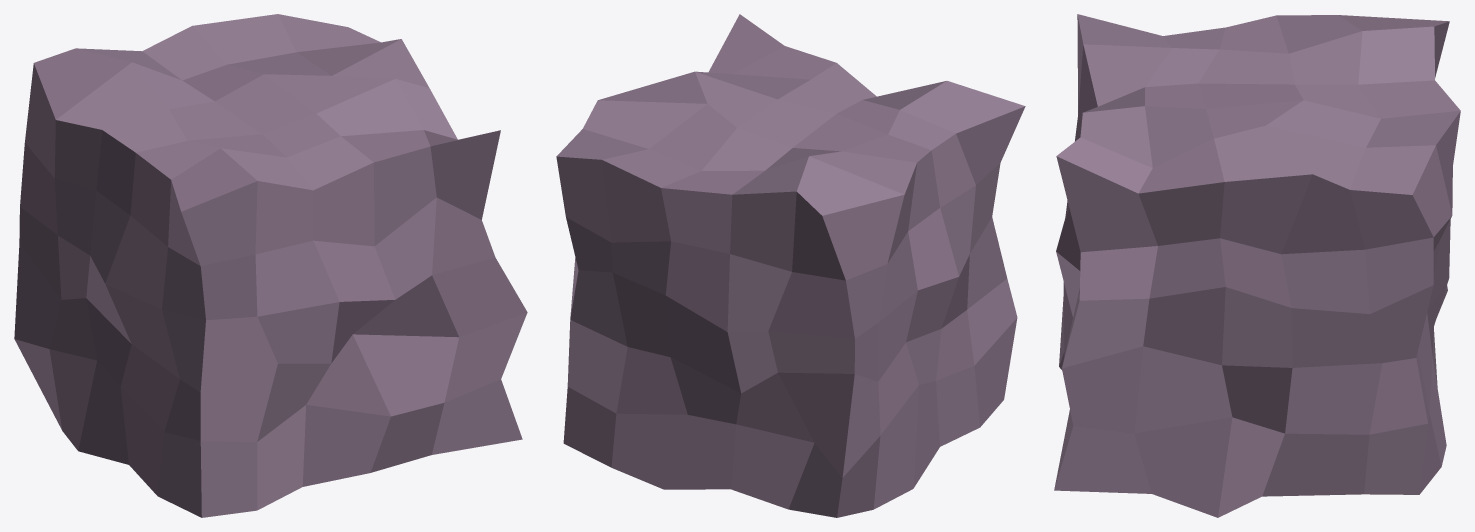
Rendered from organics.glb.
3 renders of one model, left to right at view 1: azimuth 30°, elevation 25°; view 2: azimuth 150°, elevation 25°; view 3: azimuth 270°, elevation 25°, orthographic. The views are drawn at different scales.
Visible parts, largest first — view 1: organics; view 2: organics; view 3: organics.
Boxes of the visible parts, box(x1,y1,x2,y2) form: organics: box(14, 14, 527, 517); organics: box(556, 14, 1025, 517); organics: box(1054, 14, 1460, 517).
Size of the model in its own units: 1.15 by 1.17 by 1.14.
